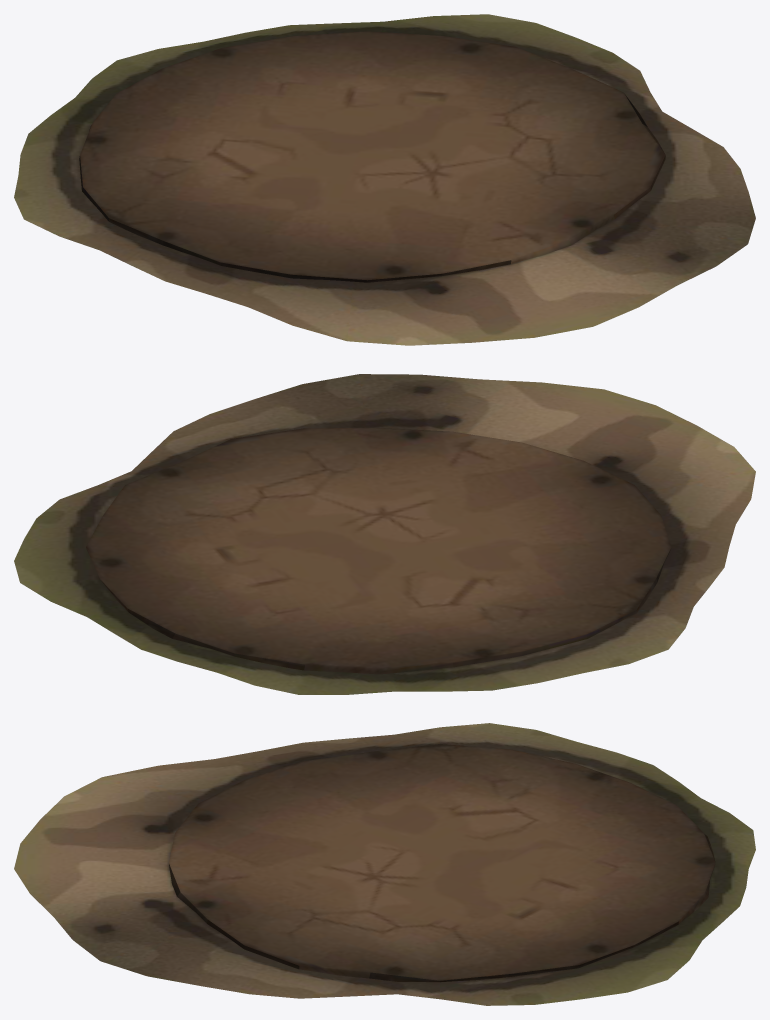
Rendered from healer_hut_floor.gltf.
The picture shows the model from 3 angles, top to bottom: view 1: azimuth 30°, elevation 25°; view 2: azimuth 150°, elevation 25°; view 3: azimuth 270°, elevation 25°; orthographic projection. The views are drawn at different scales.
Parts seen in each view (by area): view 1: healer_hut_floor; view 2: healer_hut_floor; view 3: healer_hut_floor.
Boxes of the visible parts, box(x1,y1,x2,y2) form: healer_hut_floor: box(14, 14, 755, 345); healer_hut_floor: box(14, 374, 755, 694); healer_hut_floor: box(14, 723, 755, 1005).
Size of the model in its own units: 2.79 by 0.03 by 3.09.
Materials: 2 (2 with a texture image).
